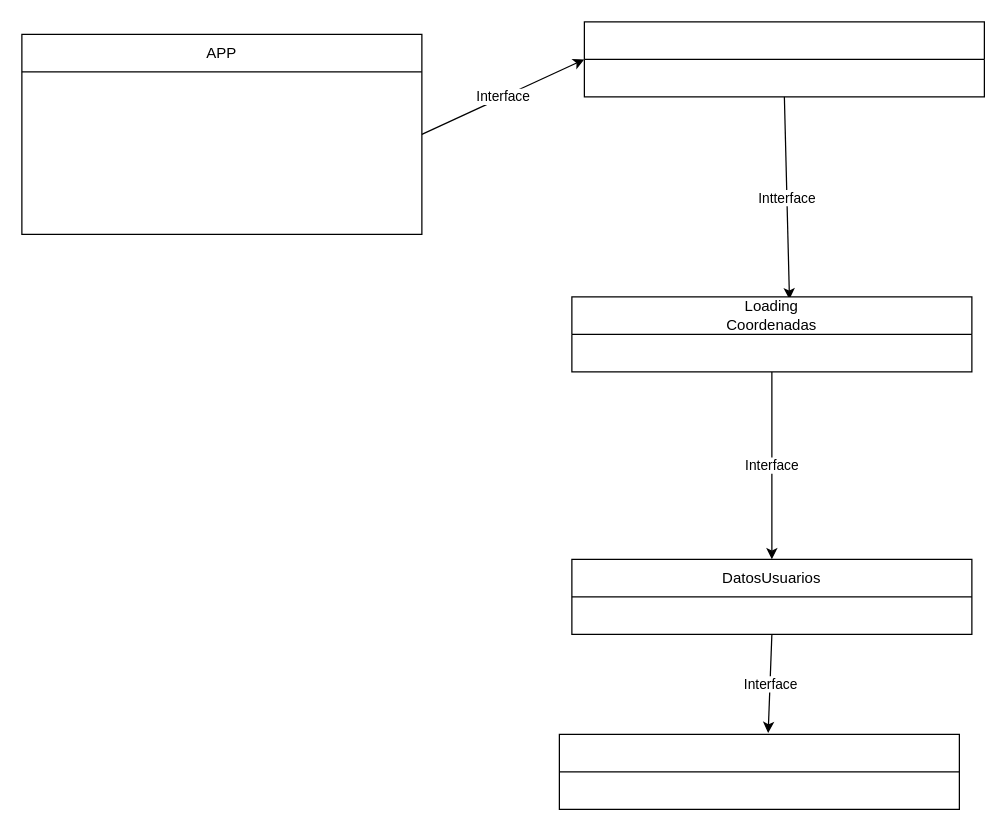
Image size: 1006x831. Some labels were removed from this diagram. The centre of each missing label's shape, as x and y in pixels:
"ArbolBinario" belongs at [758,771].
"Login" belongs at [783,59].
